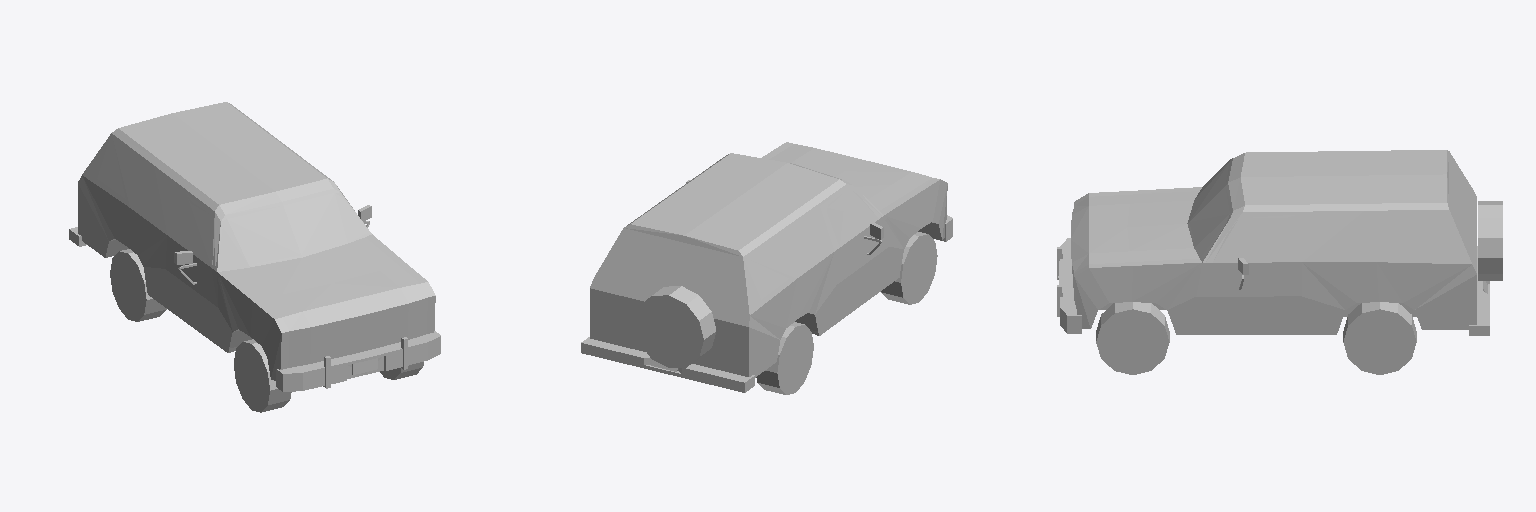
The model's file is suv.obj.
3 views of the same model, side by side, from view 1: azimuth 30°, elevation 25°; view 2: azimuth 150°, elevation 25°; view 3: azimuth 270°, elevation 25° (orthographic).
Parts seen in each view (by area): view 1: Body_Plane.012, FRWheel_Plane.001, RRWheel_Plane.021; view 2: Body_Plane.012, RRWheel_Plane.021, FRWheel_Plane.001; view 3: Body_Plane.012, FLWheel_Plane.019, RLWheel_Plane.020.
Part boxes in pixels (x1,y1,x2,y2): Body_Plane.012: (69,102,440,391); FRWheel_Plane.001: (234,339,291,412); RRWheel_Plane.021: (110,249,166,321); Body_Plane.012: (581,142,952,392); RRWheel_Plane.021: (756,322,813,394); FRWheel_Plane.001: (881,232,937,304); Body_Plane.012: (1057,150,1502,335); FLWheel_Plane.019: (1096,302,1169,374); RLWheel_Plane.020: (1343,302,1416,374).
Bounding box in the file's own units: 1.53 × 1.22 × 3.03.